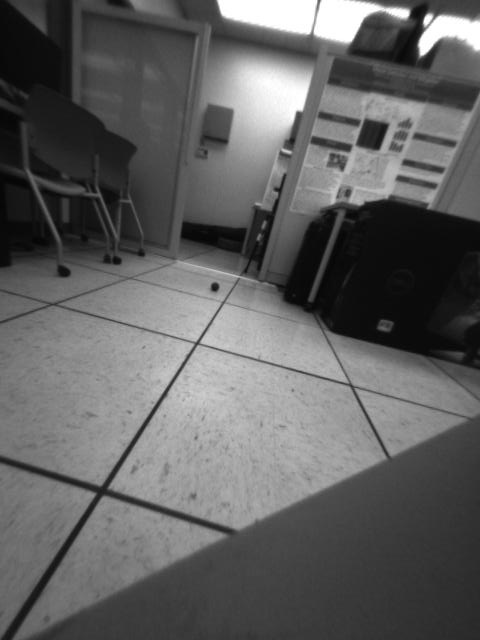dogtoy: (204, 275, 225, 296)
